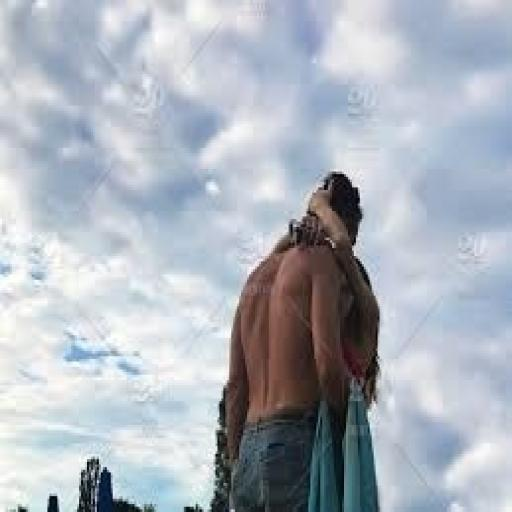hugging: (220, 166, 384, 510)
